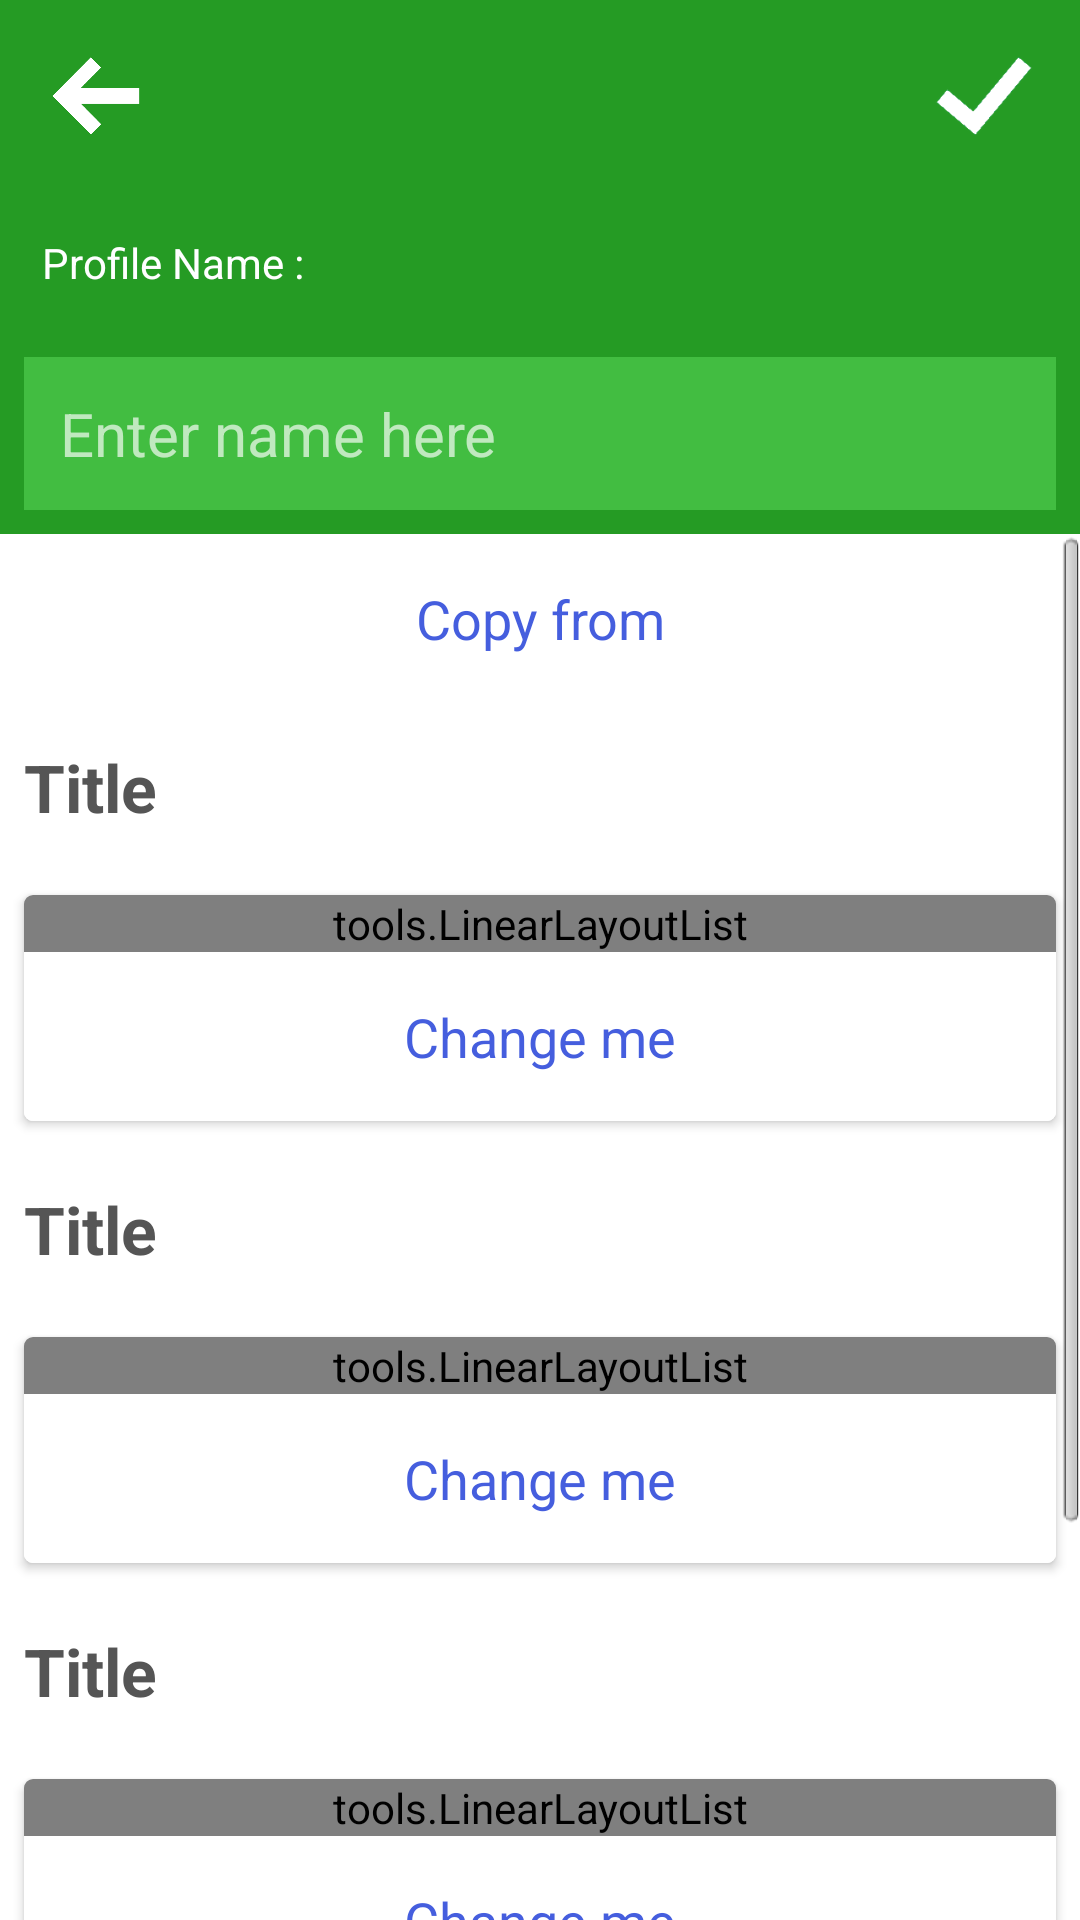

Icons on this 1080px x 1920px Android screen, each with its box as detection(x1, y1, x2, y2):
back: detection(53, 57, 140, 134)
save: detection(937, 57, 1031, 135)
